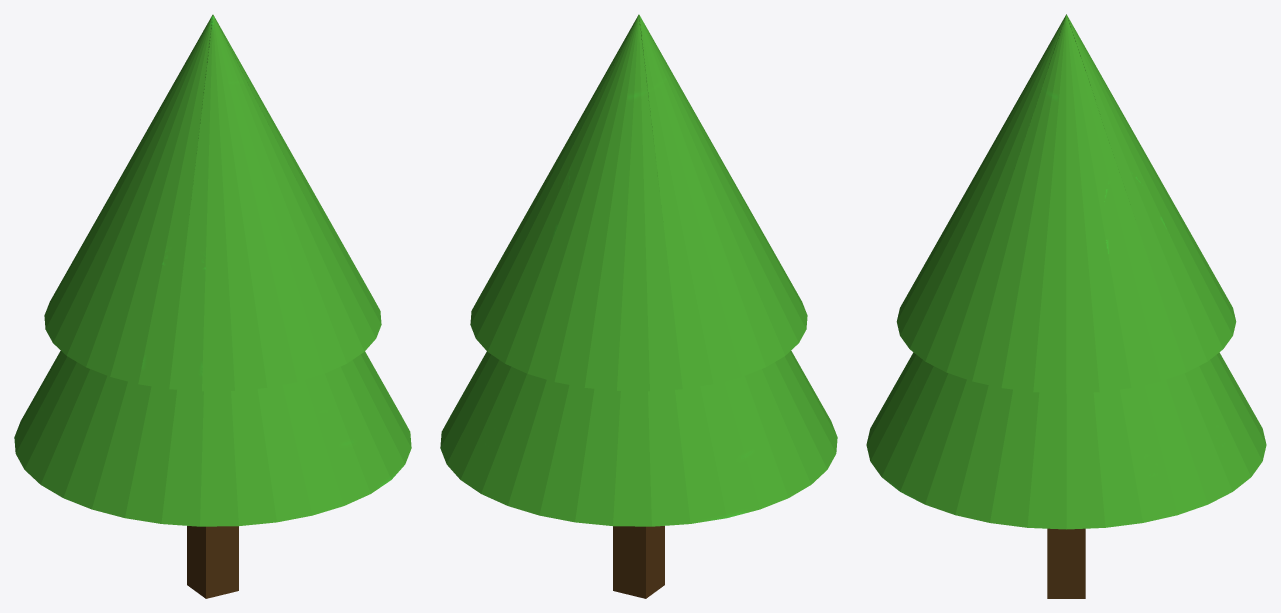
Rendered from TestTree.fbx.
The picture shows the model from 3 angles, left to right: view 1: azimuth 30°, elevation 25°; view 2: azimuth 150°, elevation 25°; view 3: azimuth 270°, elevation 25°; orthographic projection.
Parts seen in each view (by area): view 1: Cone.001; view 2: Cone.001; view 3: Cone.001.
Part boxes in pixels (left/top/right/bottom): Cone.001: left=14, top=14, right=411, bottom=598; Cone.001: left=440, top=14, right=837, bottom=598; Cone.001: left=866, top=14, right=1266, bottom=598.
Size of the model in its own units: 200 by 318 by 200.
1 material, 1 textured.
